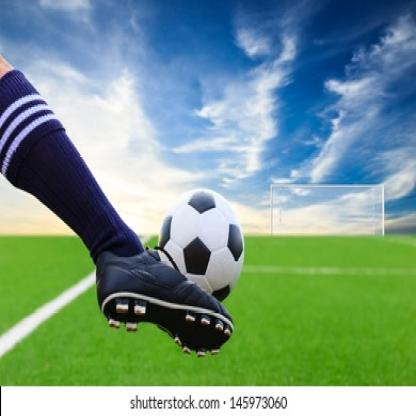ball: (176, 188, 244, 282)
